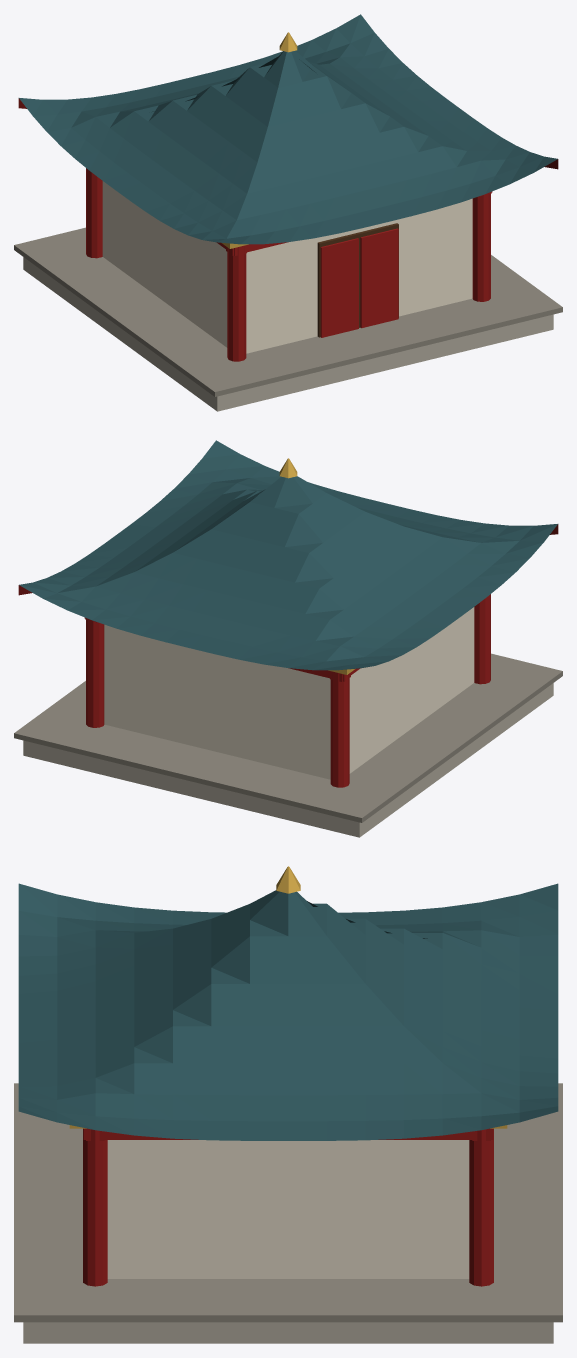
File: pagoda-hall.glb
3 renders of one model, top to bottom at view 1: azimuth 30°, elevation 25°; view 2: azimuth 150°, elevation 25°; view 3: azimuth 270°, elevation 25°, orthographic. The views are drawn at different scales.
Visible parts, largest first — view 1: pagoda-hall; view 2: pagoda-hall; view 3: pagoda-hall.
Boxes of the visible parts, x1,y1,x2,y2 form: pagoda-hall: (14, 14, 562, 411); pagoda-hall: (14, 440, 562, 837); pagoda-hall: (14, 866, 562, 1343).
Size of the model in its own units: 11.8 by 8.65 by 11.8.
